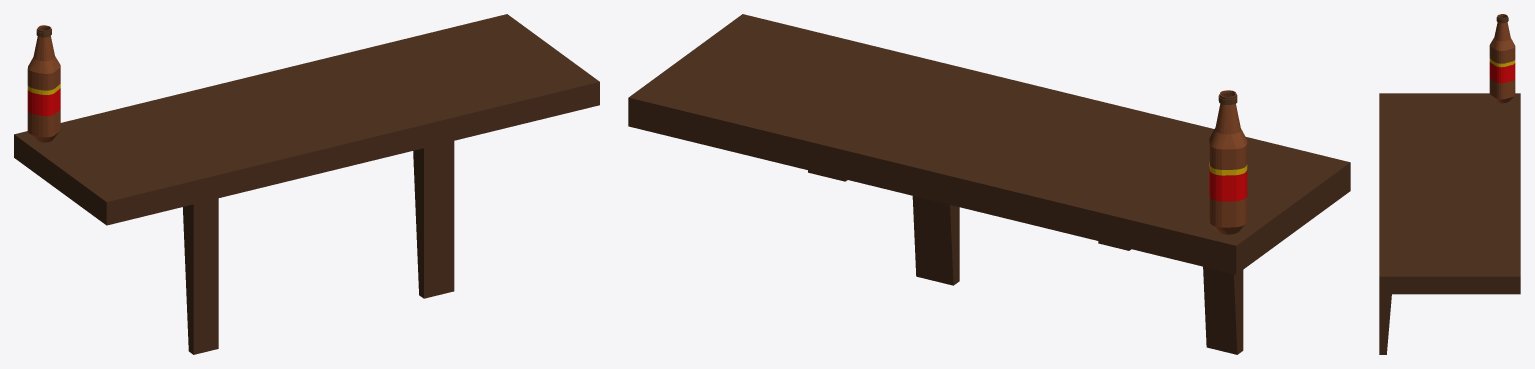
The model's file is suporte_parede.glb.
3 views of the same model, side by side, from view 1: azimuth 30°, elevation 25°; view 2: azimuth 150°, elevation 25°; view 3: azimuth 270°, elevation 25° (orthographic). The views are drawn at different scales.
Visible parts, largest first — view 1: apoio_parede, garrafas.001; view 2: apoio_parede, garrafas.001; view 3: apoio_parede, garrafas.001.
Boxes of the visible parts, x1=… form: apoio_parede: x1=14, y1=14, x2=599, y2=354; garrafas.001: x1=27, y1=25, x2=60, y2=142; apoio_parede: x1=628, y1=14, x2=1350, y2=354; garrafas.001: x1=1209, y1=90, x2=1247, y2=234; apoio_parede: x1=1379, y1=93, x2=1520, y2=354; garrafas.001: x1=1489, y1=14, x2=1515, y2=103.
Size of the model in its own units: 10.58 by 5.83 by 3.44.
